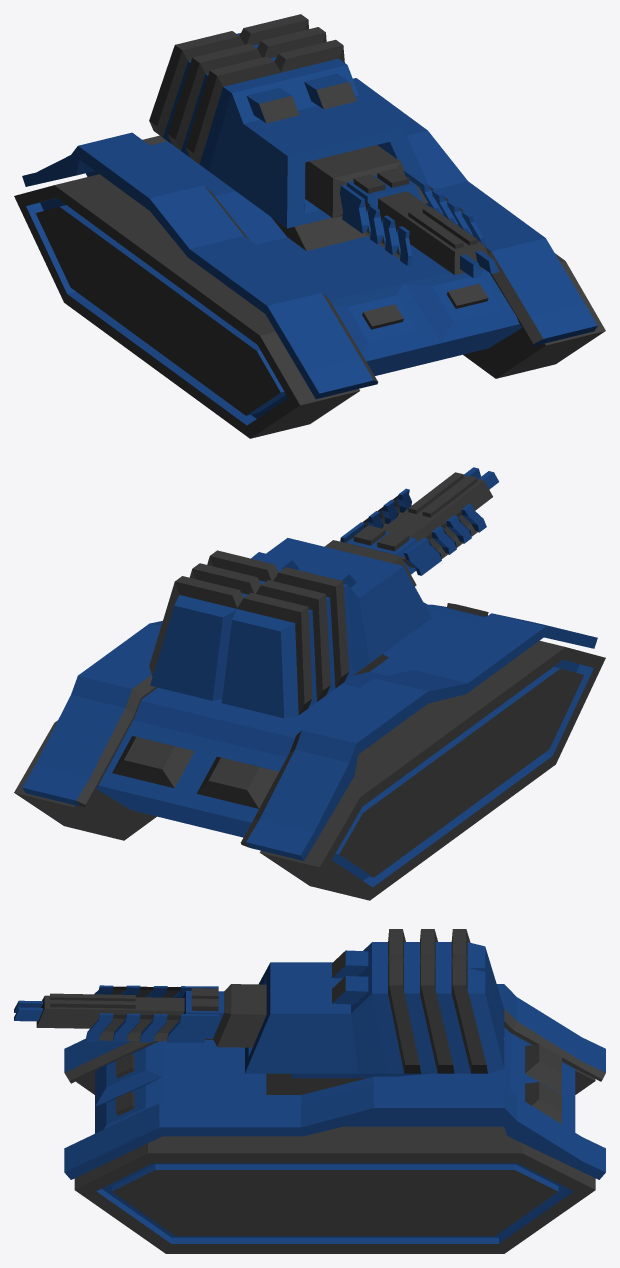
Rendered from Tank.fbx.
The picture shows the model from 3 angles, top to bottom: view 1: azimuth 30°, elevation 25°; view 2: azimuth 150°, elevation 25°; view 3: azimuth 270°, elevation 25°; orthographic projection. The views are drawn at different scales.
Visible parts, largest first — view 1: TankBody, TankHead, Cube; view 2: TankBody, TankHead; view 3: TankBody, TankHead, Cube.
Boxes of the visible parts, left/top/right/bottom form: TankBody: left=14, top=78, right=605, bottom=438; TankHead: left=149, top=14, right=499, bottom=278; Cube: left=271, top=216, right=367, bottom=250; TankBody: left=14, top=602, right=605, bottom=900; TankHead: left=149, top=467, right=498, bottom=718; TankBody: left=64, top=984, right=605, bottom=1253; TankHead: left=14, top=929, right=504, bottom=1073; Cube: left=266, top=1073, right=428, bottom=1094.
Bounding box in the file's own units: 99.01 × 77.74 × 182.
